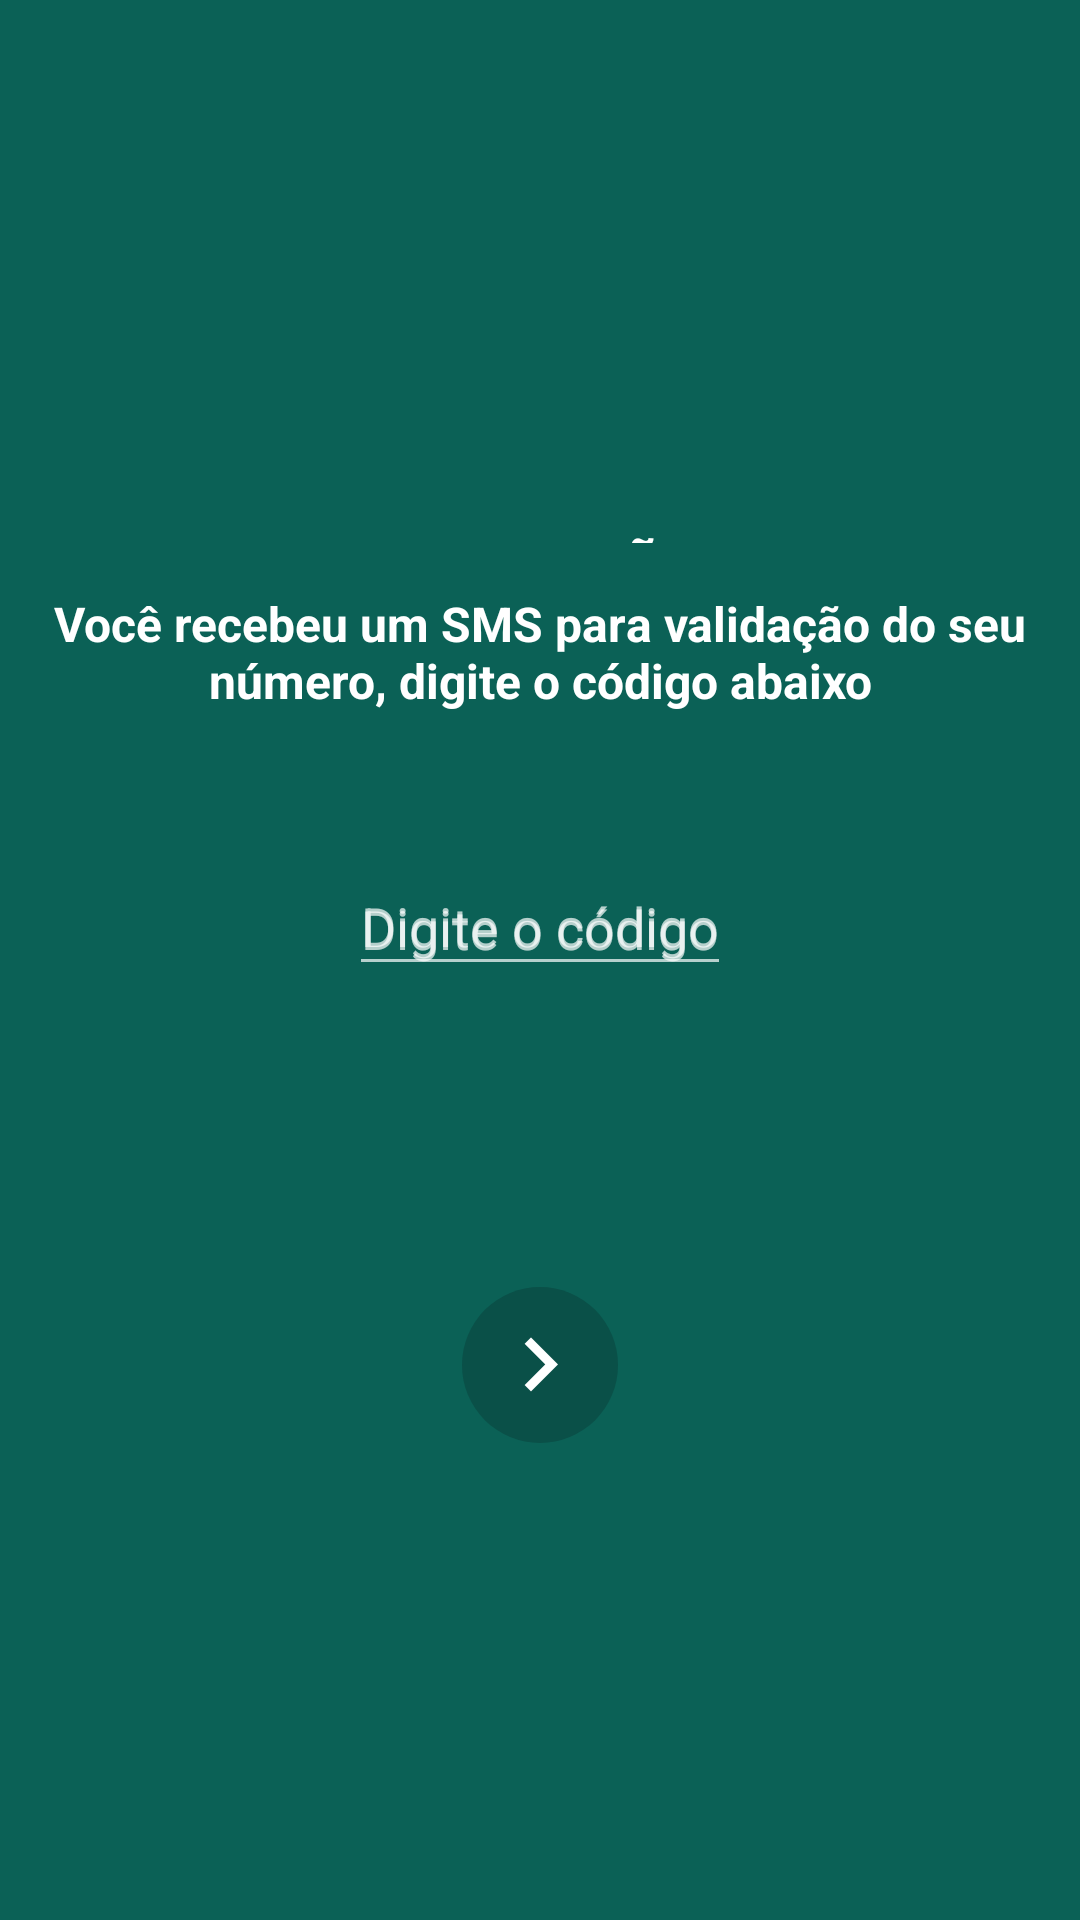

Screen size 1080 × 1920. Icon name, then its center in pixels as point (x, y):
keyboard arrow right: point (540, 1365)
